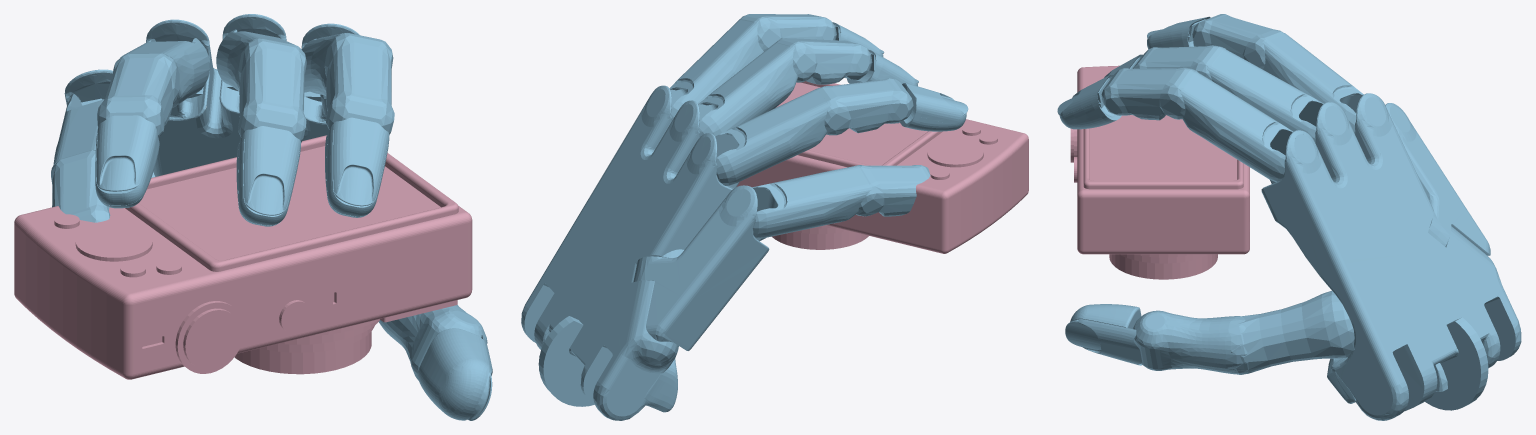
The picture shows the model from 3 angles, left to right: view 1: azimuth 30°, elevation 25°; view 2: azimuth 150°, elevation 25°; view 3: azimuth 270°, elevation 25°; orthographic projection. The views are drawn at different scales.
Visible parts, largest first — view 1: camera.stl, world; view 2: world, camera.stl; view 3: world, camera.stl.
Boxes of the visible parts, bbox=[...] form: camera.stl: bbox=[14, 135, 472, 379]; world: bbox=[51, 14, 492, 420]; world: bbox=[521, 14, 968, 420]; camera.stl: bbox=[737, 81, 1028, 253]; world: bbox=[1057, 14, 1521, 420]; camera.stl: bbox=[1070, 65, 1249, 279].
Bounding box in the file's own units: 0.1576 × 0.1295 × 0.1737.
